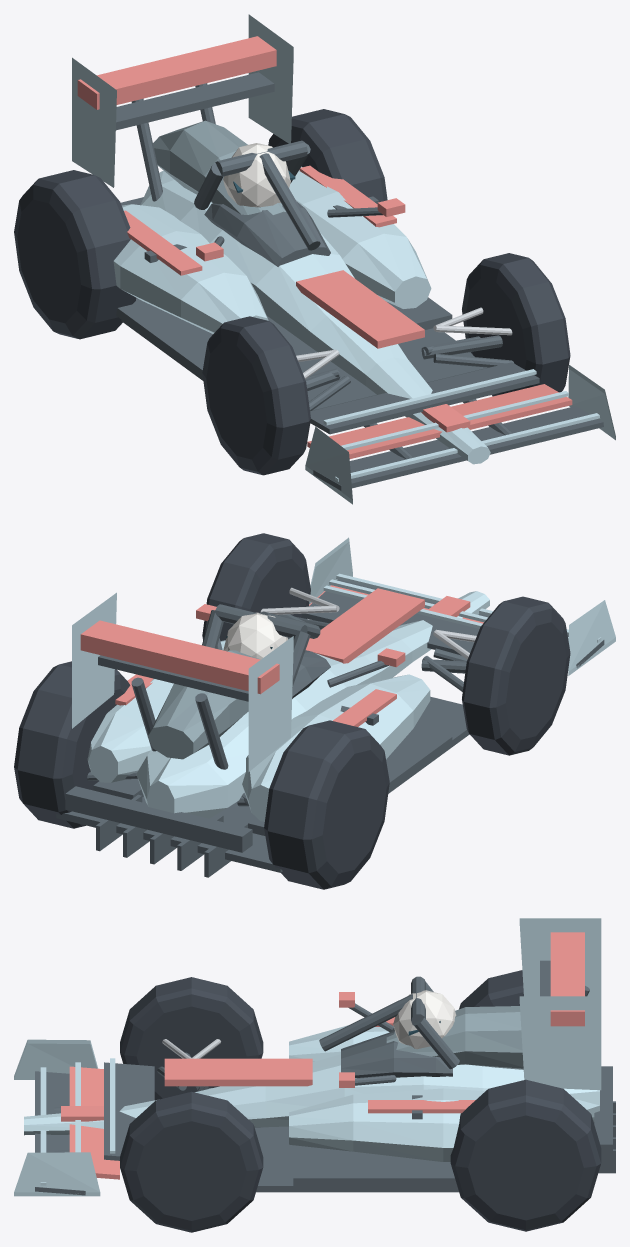
File: hyundai_mobile.glb
The picture shows the model from 3 angles, top to bottom: view 1: azimuth 30°, elevation 25°; view 2: azimuth 150°, elevation 25°; view 3: azimuth 270°, elevation 25°; orthographic projection. The views are drawn at different scales.
Visible parts, largest first — view 1: BODY_paint, BODY_carbon, BODY_accent, RearLeftWheel_rubber, FrontLeftWheel_rubber, FrontRightWheel_rubber, RearRightWheel_rubber, BODY_paint_dark, BODY_helmet, BODY_metal; view 2: BODY_paint, BODY_carbon, RearLeftWheel_rubber, BODY_accent, FrontLeftWheel_rubber, RearRightWheel_rubber, FrontRightWheel_rubber, BODY_paint_dark, BODY_helmet, BODY_metal; view 3: BODY_paint, BODY_carbon, RearRightWheel_rubber, FrontRightWheel_rubber, BODY_accent, FrontLeftWheel_rubber, BODY_paint_dark, BODY_helmet, RearLeftWheel_rubber.
Boxes of the visible parts, x1=… form: BODY_paint: x1=72, y1=14, x2=615, y2=504; BODY_carbon: x1=116, y1=72, x2=603, y2=490; BODY_accent: x1=77, y1=36, x2=572, y2=458; RearLeftWheel_rubber: x1=14, y1=170, x2=136, y2=339; FrontLeftWheel_rubber: x1=202, y1=316, x2=310, y2=475; FrontRightWheel_rubber: x1=462, y1=253, x2=570, y2=396; RearRightWheel_rubber: x1=268, y1=109, x2=387, y2=202; BODY_paint_dark: x1=153, y1=120, x2=285, y2=215; BODY_helmet: x1=223, y1=143, x2=290, y2=207; BODY_metal: x1=296, y1=307, x2=512, y2=379; BODY_paint: x1=72, y1=537, x2=615, y2=821; BODY_carbon: x1=56, y1=579, x2=604, y2=877; RearLeftWheel_rubber: x1=264, y1=720, x2=389, y2=889; BODY_accent: x1=80, y1=585, x2=483, y2=726; FrontLeftWheel_rubber: x1=462, y1=596, x2=570, y2=755; RearRightWheel_rubber: x1=14, y1=661, x2=130, y2=828; FrontRightWheel_rubber: x1=202, y1=533, x2=310, y2=640; BODY_paint_dark: x1=148, y1=650, x2=260, y2=759; BODY_helmet: x1=223, y1=612, x2=288, y2=659; BODY_metal: x1=260, y1=587, x2=476, y2=659; BODY_paint: x1=14, y1=918, x2=601, y2=1196; BODY_carbon: x1=35, y1=960, x2=615, y2=1195; RearRightWheel_rubber: x1=450, y1=1079, x2=601, y2=1231; FrontRightWheel_rubber: x1=120, y1=1091, x2=263, y2=1232; BODY_accent: x1=61, y1=932, x2=584, y2=1179; FrontLeftWheel_rubber: x1=120, y1=977, x2=263, y2=1100; BODY_paint_dark: x1=386, y1=1006, x2=523, y2=1069; BODY_helmet: x1=393, y1=990, x2=456, y2=1049; RearLeftWheel_rubber: x1=459, y1=970, x2=523, y2=1009.
Bounding box in the file's own units: 2.59 × 1.9 × 4.88.
